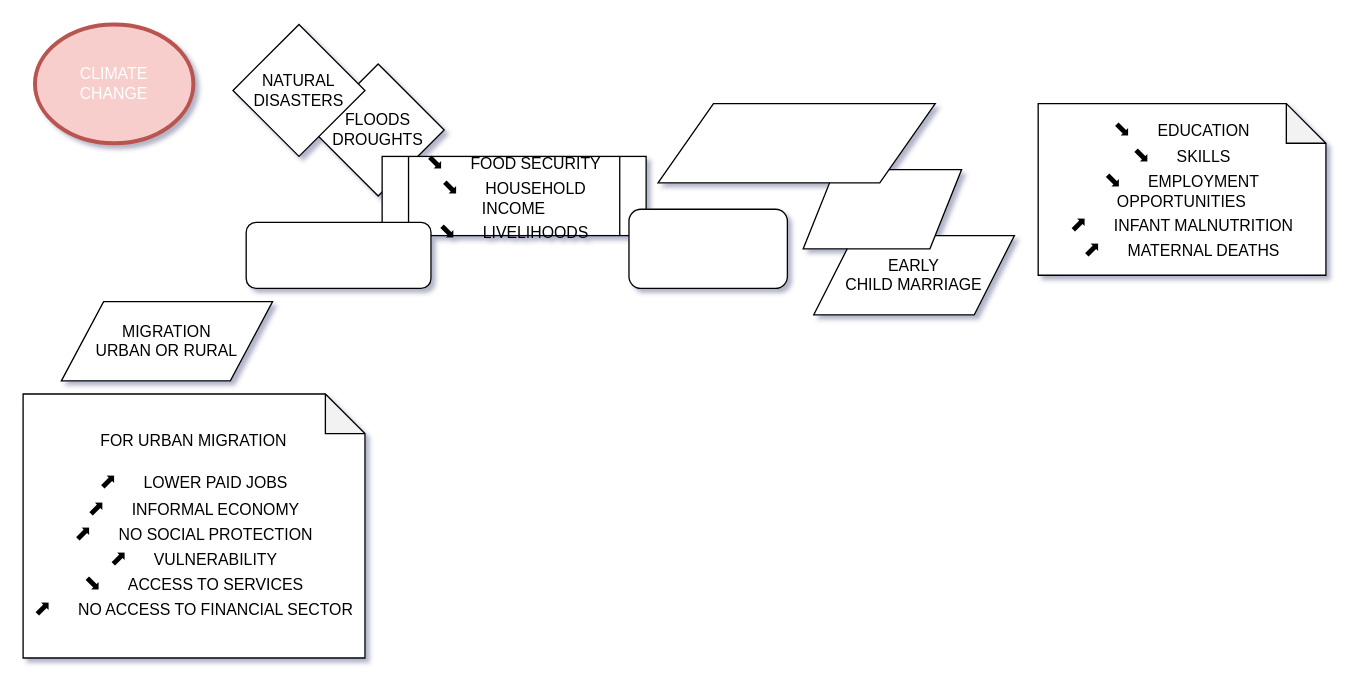
Image size: 1357x689. Some labels were removed from this diagram. The centre of each missing label's shape, as x and y in pixels:
"NEGATIVE COPING MECHANISM" goes at pixel 707 248.
"POSITIVE/NEGATIVE OR MIXED MECHANISM" goes at pixel 338 254.
"REPRODUCTIVE RIGHTS ACCESS TO HEALTHCARE" goes at pixel 796 142.
"VIOLENCE GBV" goes at pixel 882 208.
